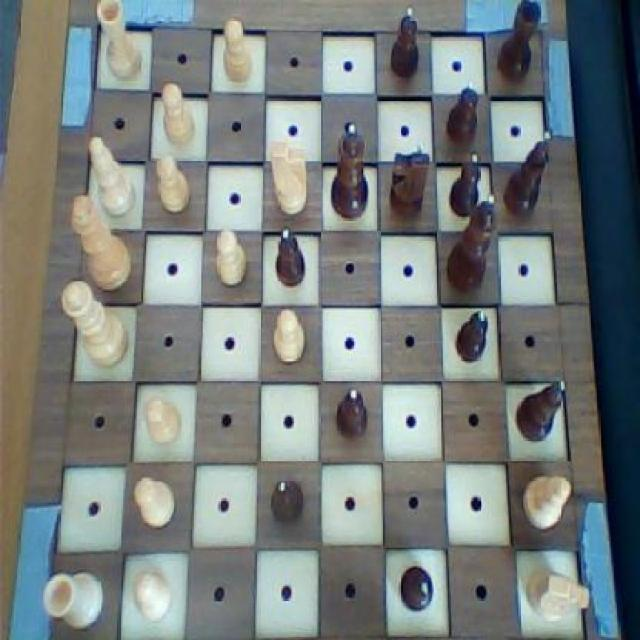bishop: (498, 128, 557, 225), (512, 374, 570, 445)
black-bishop: (443, 191, 500, 299)
black-king: (386, 136, 431, 224)
black-knight: (388, 0, 425, 85), (446, 148, 486, 220), (263, 472, 308, 533), (394, 558, 438, 620), (451, 302, 493, 363), (445, 75, 480, 148), (331, 383, 370, 446), (271, 224, 307, 288)
black-pawn: (328, 115, 373, 222)
black-queen: (492, 0, 546, 91)
black-rook: (86, 132, 142, 223), (521, 468, 577, 532)
white-bishop: (66, 188, 136, 292)
white-king: (523, 563, 595, 631), (266, 134, 314, 221)
white-knight: (126, 563, 176, 627), (152, 148, 197, 219), (217, 9, 257, 88), (129, 471, 180, 531), (269, 303, 312, 372), (210, 224, 252, 292), (141, 392, 187, 452), (160, 77, 198, 148)
white-pawn: (60, 276, 132, 372)
white-queen: (91, 0, 146, 85), (40, 564, 106, 634)
